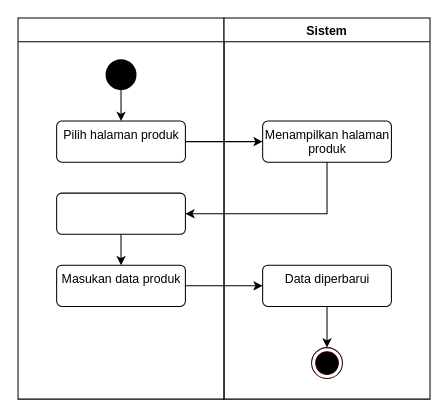
Some shapes in this 448 by 417 pixel diagram are drawn without their labels. The shapes that lost their labels are listed below. From the top down, each one's box as (x1, y1, x2, y2) in pixels, then its label:
(17, 17, 224, 399): Admin
(56, 192, 185, 234): Ubah data
